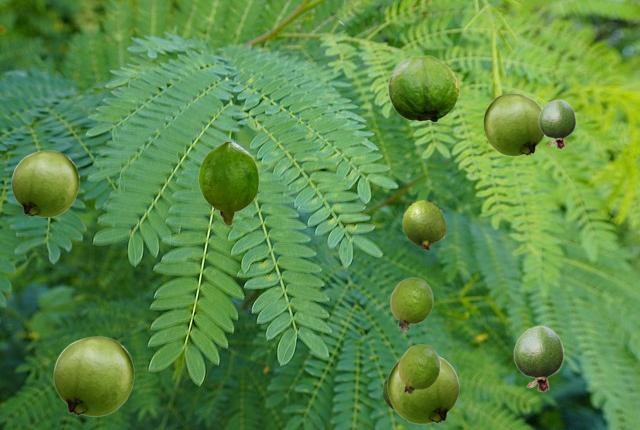guava: (53, 336, 133, 415), (198, 141, 258, 225), (387, 356, 458, 423), (388, 55, 458, 121), (11, 150, 78, 216), (483, 93, 544, 155), (513, 325, 563, 391), (390, 277, 432, 330), (402, 200, 445, 249), (398, 344, 439, 393), (538, 99, 575, 148), (382, 377, 392, 409)
